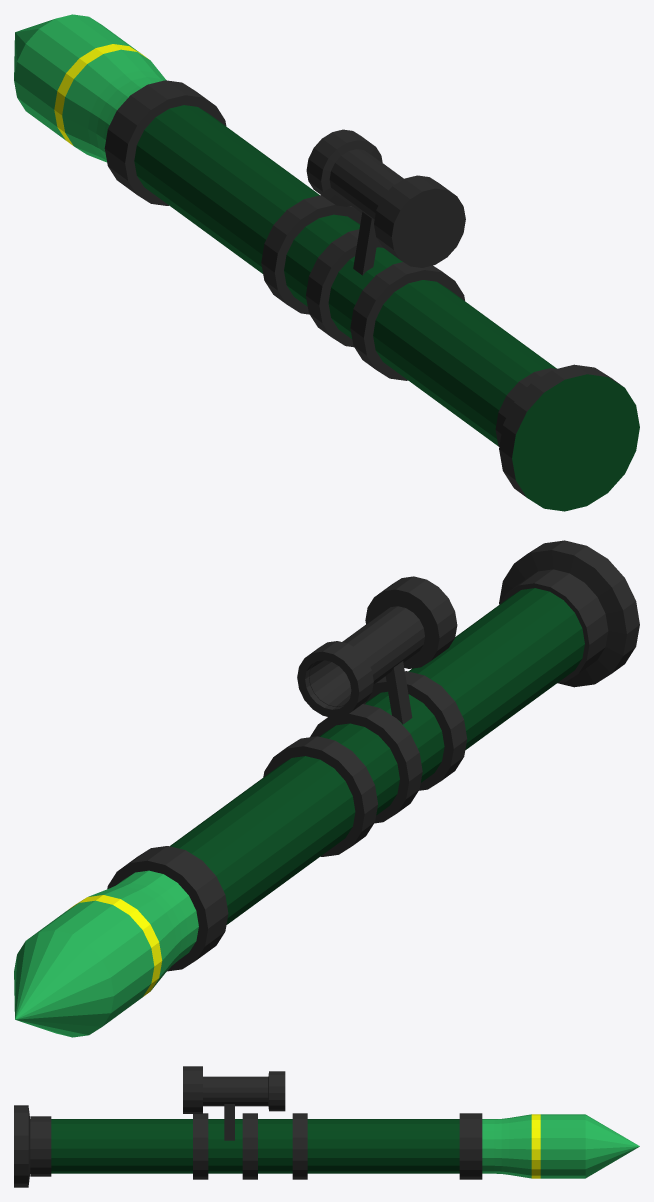
The model's file is Bazooka.obj.
The picture shows the model from 3 angles, top to bottom: view 1: azimuth 30°, elevation 25°; view 2: azimuth 150°, elevation 25°; view 3: azimuth 270°, elevation 25°; orthographic projection. The views are drawn at different scales.
Visible parts, largest first — view 1: Cylinder003, Cylinder004; view 2: Cylinder003, Cylinder004; view 3: Cylinder003, Cylinder004.
Boxes of the visible parts, box(x1,y1,x2,y2) form: Cylinder003: box(14, 14, 639, 511); Cylinder004: box(306, 129, 465, 275); Cylinder003: box(14, 540, 639, 1037); Cylinder004: box(297, 576, 457, 724); Cylinder003: box(14, 1105, 639, 1187); Cylinder004: box(183, 1066, 285, 1140).
Bounding box in the file's own units: 38644 × 59686 × 293270.
